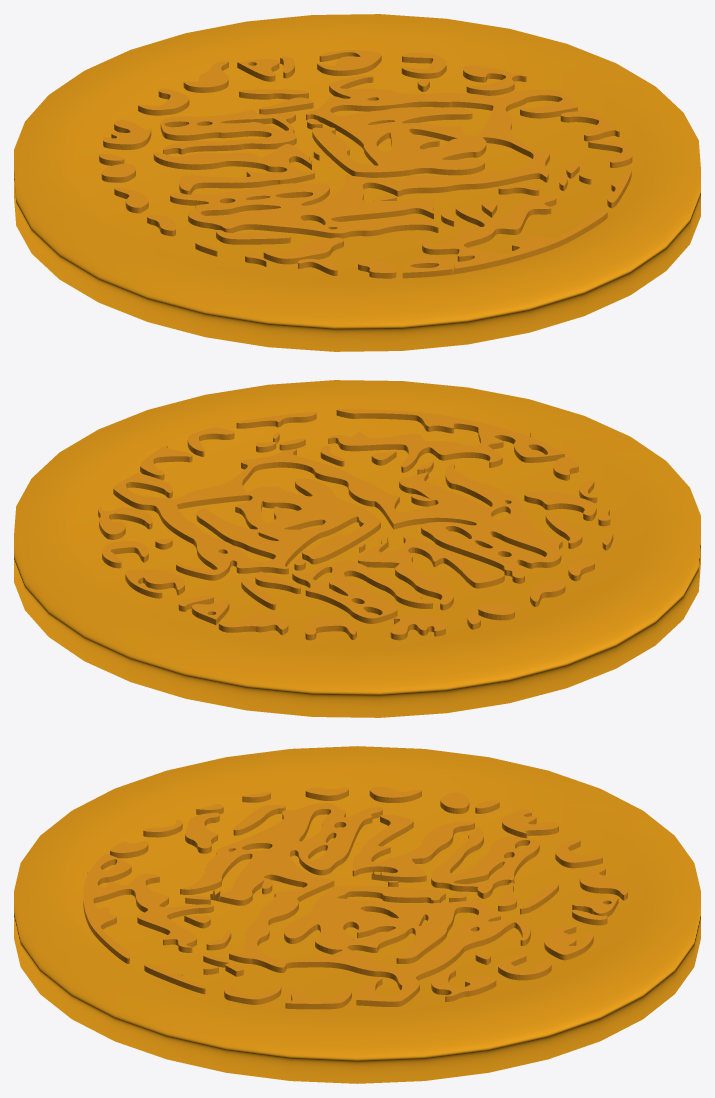
File: SM_Coin_07(balqis).fbx
The picture shows the model from 3 angles, top to bottom: view 1: azimuth 30°, elevation 25°; view 2: azimuth 150°, elevation 25°; view 3: azimuth 270°, elevation 25°; orthographic projection.
Parts seen in each view (by area): view 1: m.coin7, T.coin07; view 2: m.coin7, T.coin07; view 3: m.coin7, T.coin07.
Part boxes in pixels (x1=…): m.coin7: x1=14, y1=14, x2=700, y2=351; T.coin07: x1=99, y1=50, x2=632, y2=278; m.coin7: x1=14, y1=380, x2=700, y2=717; T.coin07: x1=98, y1=409, x2=613, y2=640; m.coin7: x1=14, y1=746, x2=700, y2=1083; T.coin07: x1=83, y1=786, x2=627, y2=1009.
Size of the model in its own units: 4600 by 381 by 4600.
